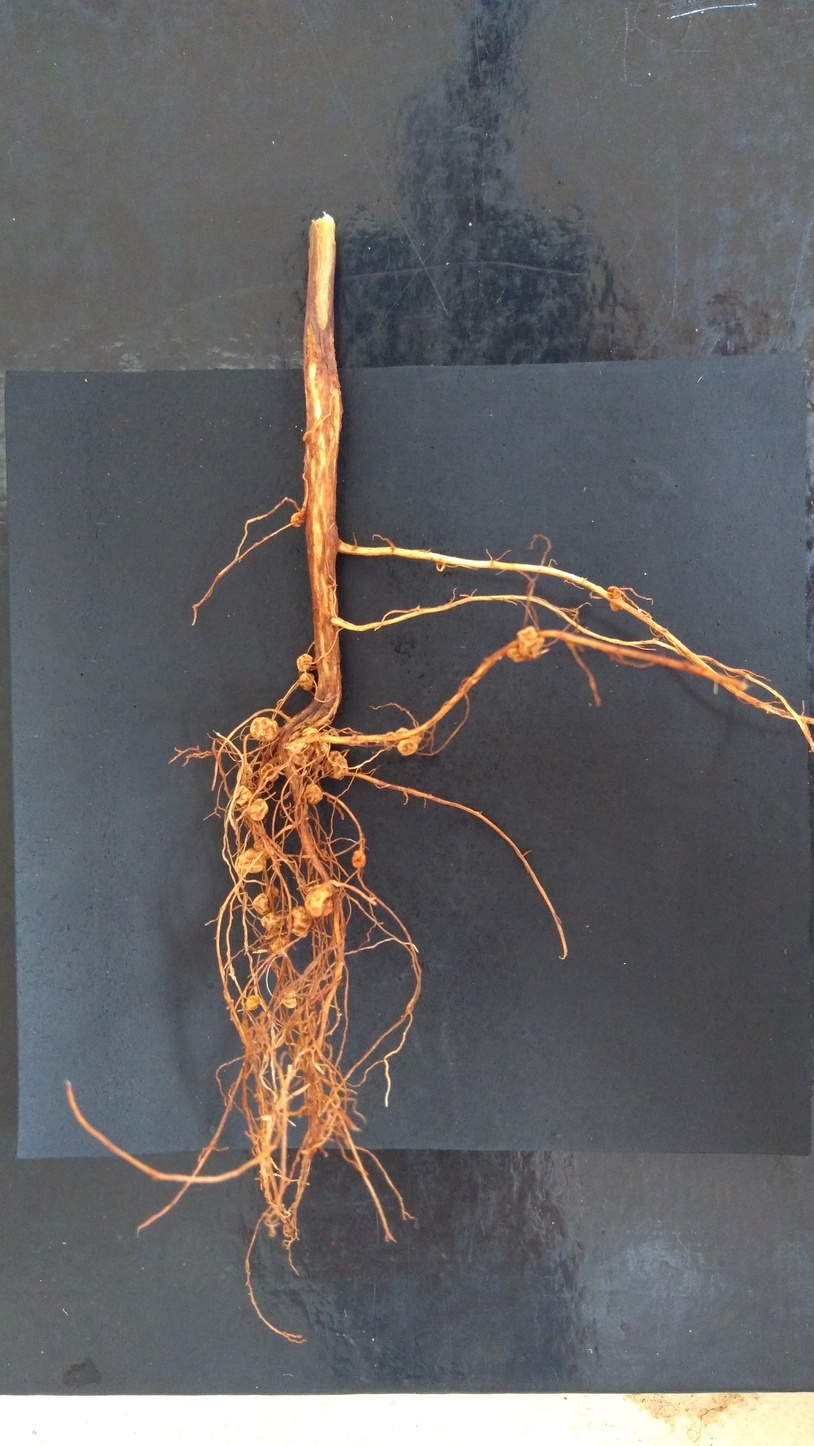nodule: (285, 727, 331, 768), (304, 882, 335, 917), (516, 625, 544, 659), (286, 905, 312, 939), (236, 847, 267, 874), (394, 727, 422, 756), (321, 750, 348, 780), (249, 717, 280, 743), (260, 911, 285, 933), (268, 930, 288, 957), (246, 798, 268, 822), (253, 837, 275, 859), (608, 585, 625, 612), (260, 760, 279, 783), (233, 785, 253, 806), (253, 893, 270, 917), (280, 985, 297, 1009), (304, 783, 323, 804), (296, 653, 315, 673), (298, 672, 315, 692), (316, 983, 334, 1001), (505, 646, 525, 662), (351, 849, 367, 868), (244, 995, 261, 1012), (237, 765, 253, 783), (291, 510, 304, 528), (265, 886, 278, 898), (310, 762, 322, 773), (318, 847, 328, 859), (302, 434, 307, 441)
